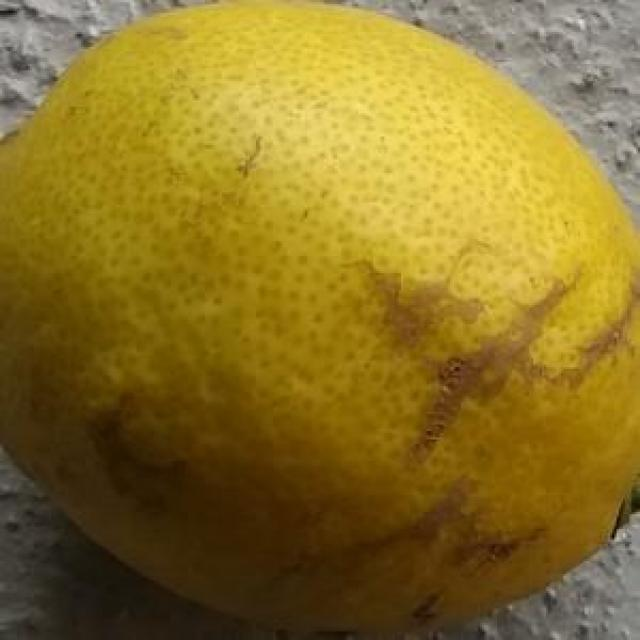lemon: (1, 2, 637, 640)
